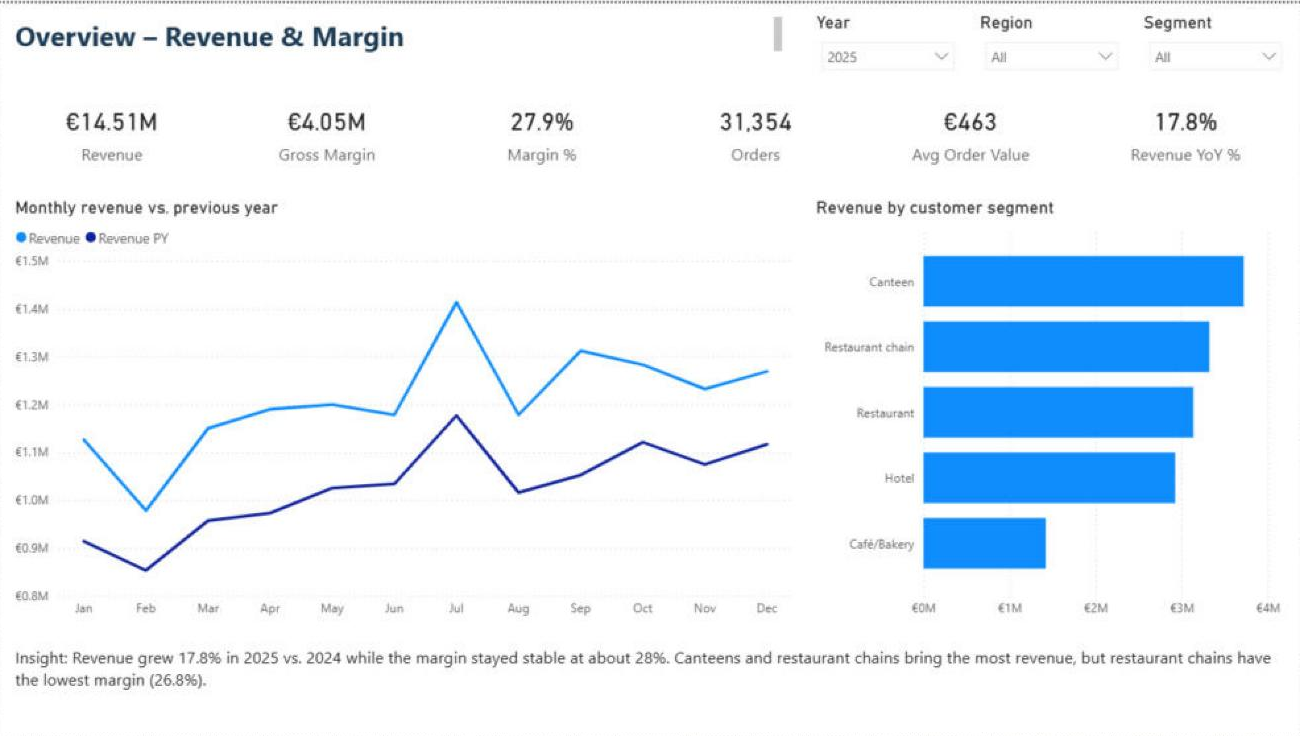

What the dashboard file says about the page in this screenshot:
{"tool":"powerbi","page":{"name":"Overview","canvas":[1280,720],"ordinal":0},"visuals":[{"type":"textbox","box":[16,8,760,44],"z":1000},{"type":"slicer","title":"Year","fields":{"Values":["DimDate.Year"]},"box":[800,8,150,62],"z":2000},{"type":"slicer","title":"Region","fields":{"Values":["DimCustomer.region"]},"box":[960,8,150,62],"z":3000},{"type":"slicer","title":"Segment","fields":{"Values":["DimCustomer.segment"]},"box":[1120,8,150,62],"z":4000},{"type":"card","fields":{"Values":["_Measures.Revenue"]},"box":[16,76,200,100],"z":5000},{"type":"card","fields":{"Values":["_Measures.Gross Margin"]},"box":[226,76,200,100],"z":6000},{"type":"card","fields":{"Values":["_Measures.Margin %"]},"box":[436,76,200,100],"z":7000},{"type":"card","fields":{"Values":["_Measures.Orders"]},"box":[646,76,200,100],"z":8000},{"type":"card","fields":{"Values":["_Measures.Avg Order Value"]},"box":[856,76,200,100],"z":9000},{"type":"card","fields":{"Values":["_Measures.Revenue YoY %"]},"box":[1066,76,200,100],"z":10000},{"type":"lineChart","title":"Monthly revenue vs. previous year","fields":{"Category":["DimDate.Month"],"Y":["_Measures.Revenue","_Measures.Revenue PY"]},"box":[16,190,770,420],"z":11000},{"type":"clusteredBarChart","title":"Revenue by customer segment","fields":{"Category":["DimCustomer.segment"],"Y":["_Measures.Revenue"]},"box":[800,190,464,420],"z":12000},{"type":"textbox","box":[16,624,1248,80],"z":13000}]}

Visuals, with their boxes in screenshot pixels (x1, y1, x2, y2), scaled from the page's 1280x720 canvas onto the 1300x736 screenshot:
textbox: [16, 8, 788, 53]
"Year" slicer: [812, 8, 965, 72]
"Region" slicer: [975, 8, 1127, 72]
"Segment" slicer: [1138, 8, 1290, 72]
card - _Measures.Revenue: [16, 78, 219, 180]
card - _Measures.Gross Margin: [230, 78, 433, 180]
card - _Measures.Margin %: [443, 78, 646, 180]
card - _Measures.Orders: [656, 78, 859, 180]
card - _Measures.Avg Order Value: [869, 78, 1072, 180]
card - _Measures.Revenue YoY %: [1083, 78, 1286, 180]
"Monthly revenue vs. previous year" lineChart: [16, 194, 798, 624]
"Revenue by customer segment" clusteredBarChart: [812, 194, 1284, 624]
textbox: [16, 638, 1284, 720]
